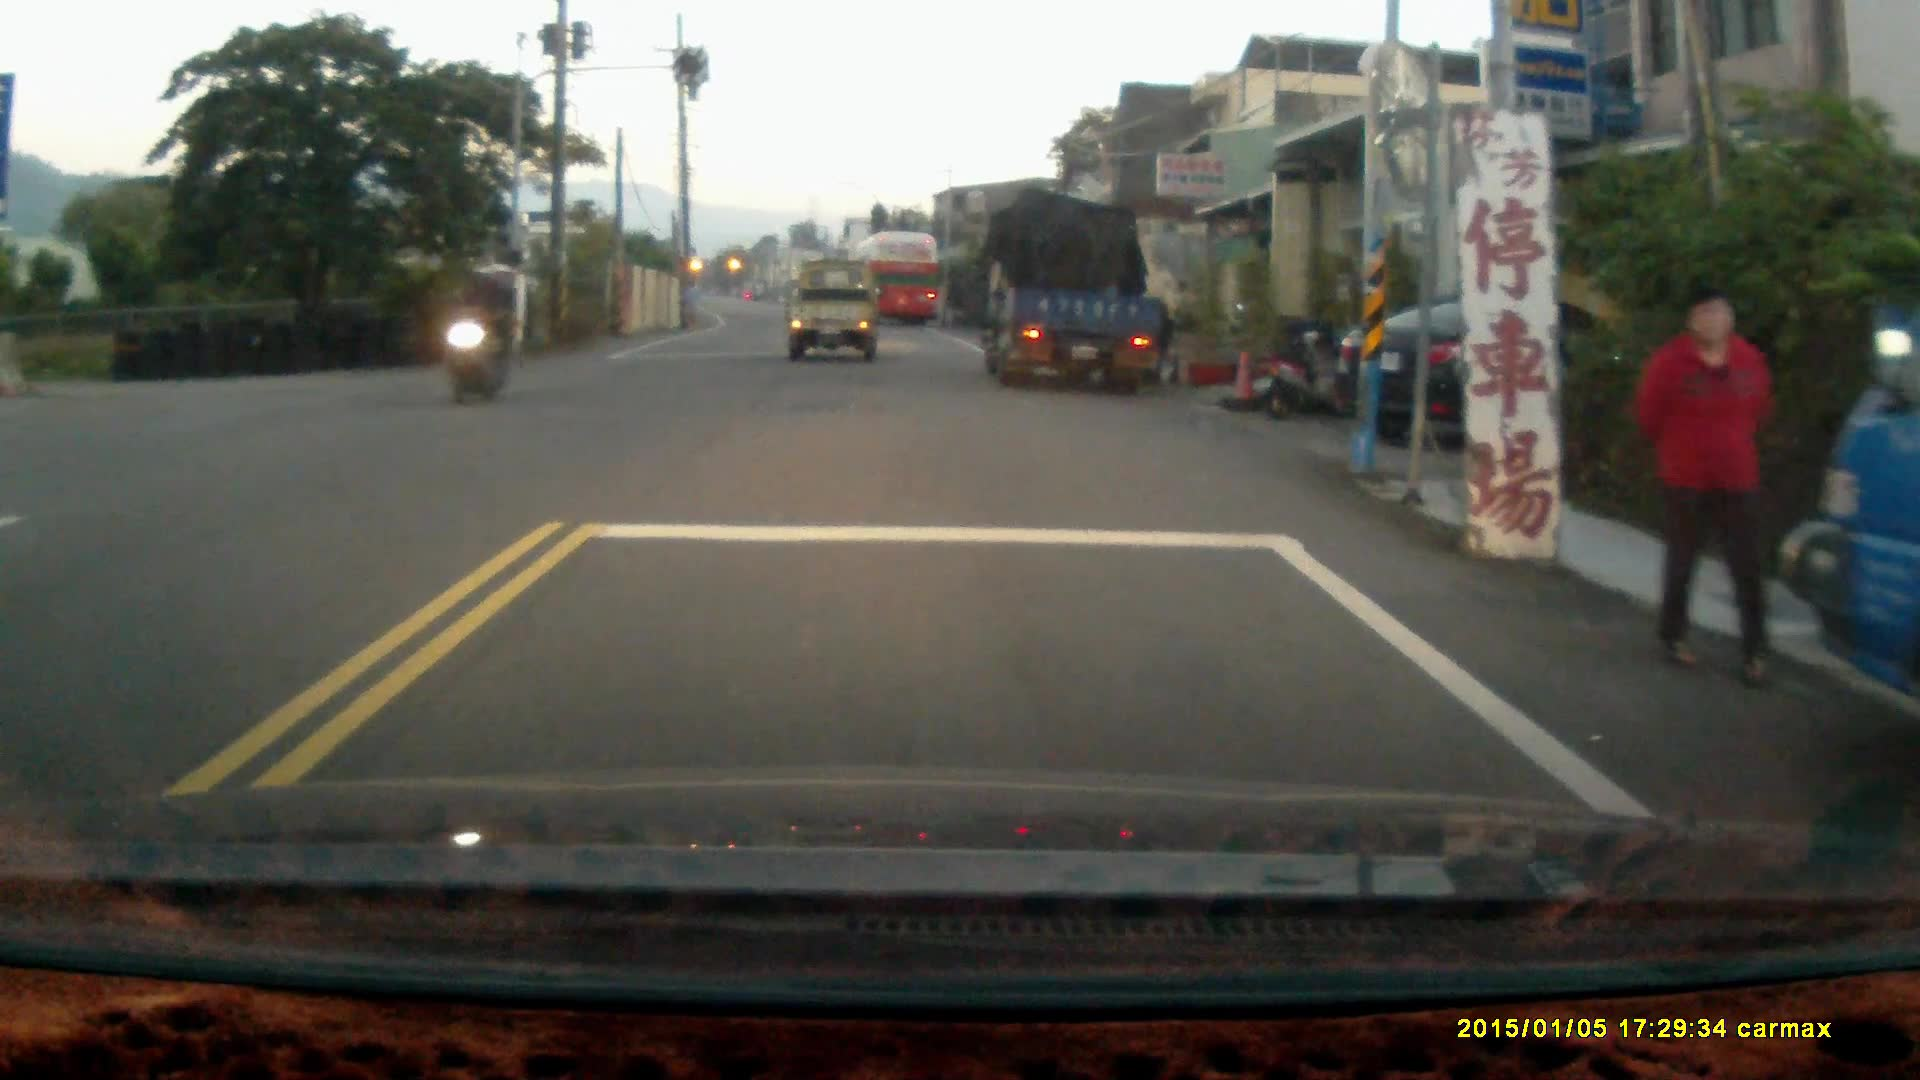pedestrian: (1632, 282, 1780, 693)
rider: (434, 263, 519, 409)
vehicle: (1770, 216, 1919, 785), (1330, 291, 1683, 456), (984, 193, 1174, 389), (787, 261, 881, 371), (849, 231, 945, 331)
